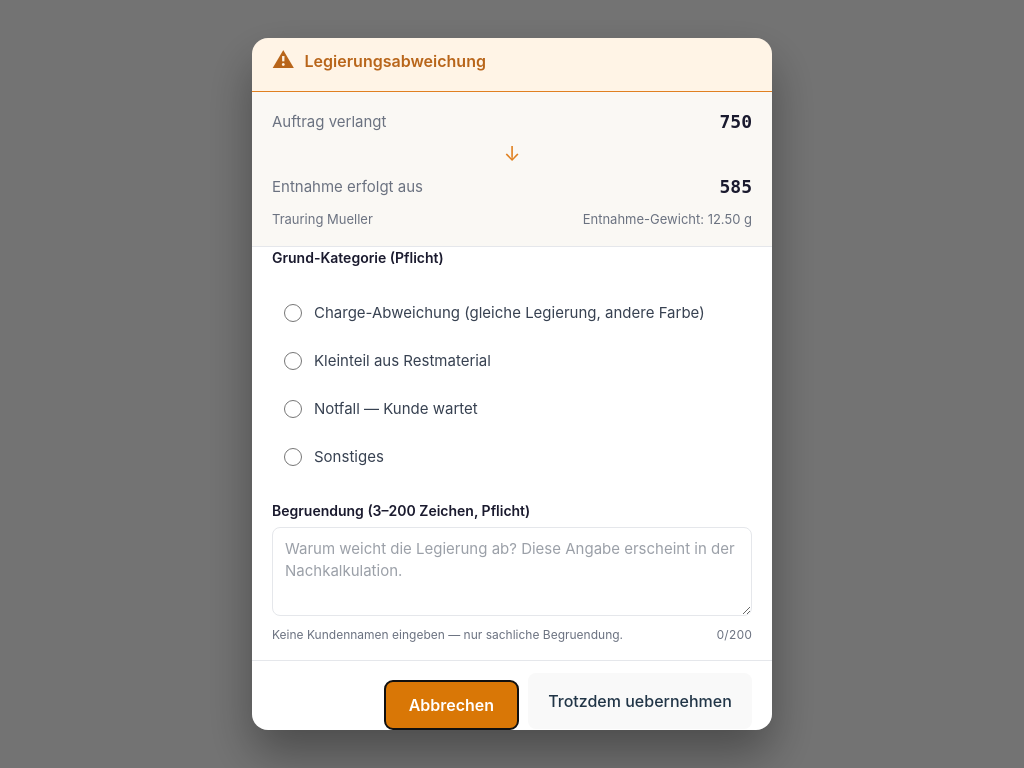
Test: AlloyMismatchModal validation › shows explicit PII warning when @ sign present + disables Override
Click the radio button labelled "Sonstiges" at [293, 457], box [284,448,302,466]
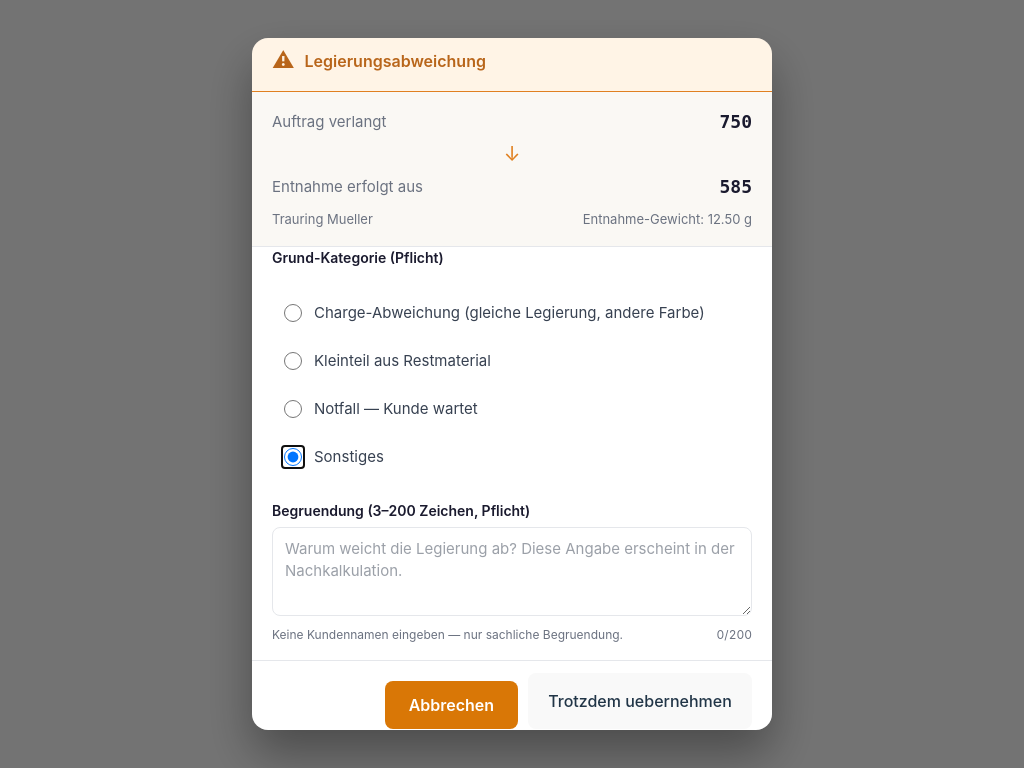
Type "Kontakt via x@y.de" into the text box with test id "alloy-reason-textarea" at [512, 572], box [272,527,752,616]
(page scrolled)
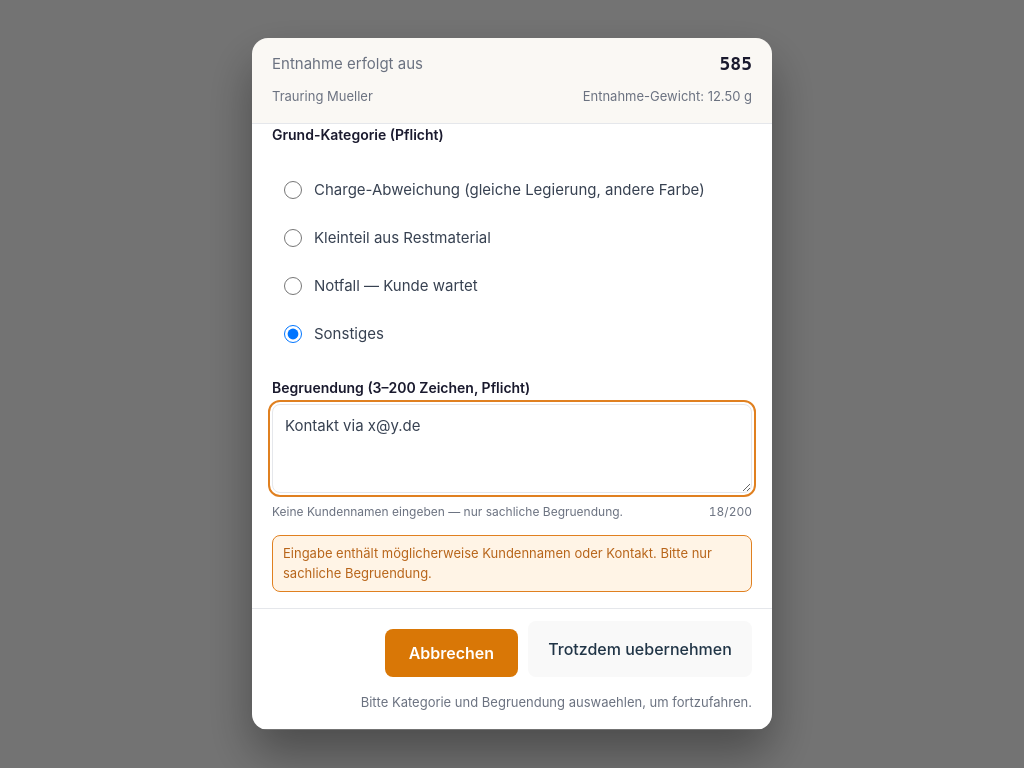
Expected: the button with test id "alloy-override" is disabled, [528,621,752,677]
Result: the message with test id "alloy-pii-warn" is shown at [272,535,752,592]
